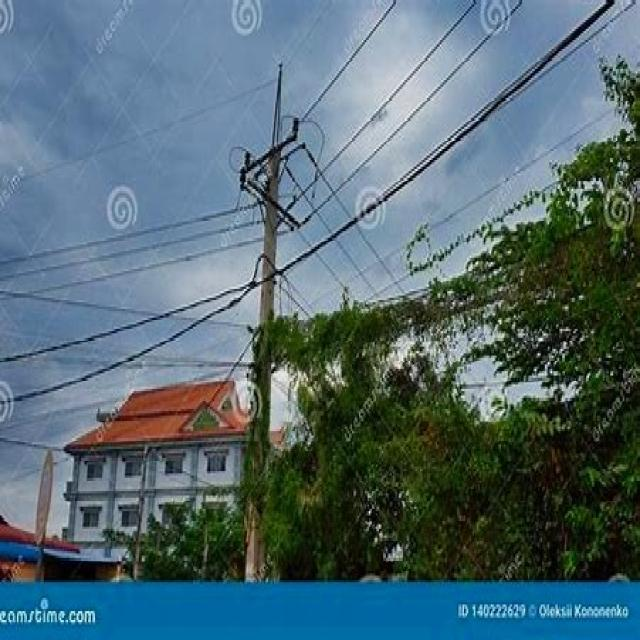critical vegetation: (261, 268, 639, 404)
